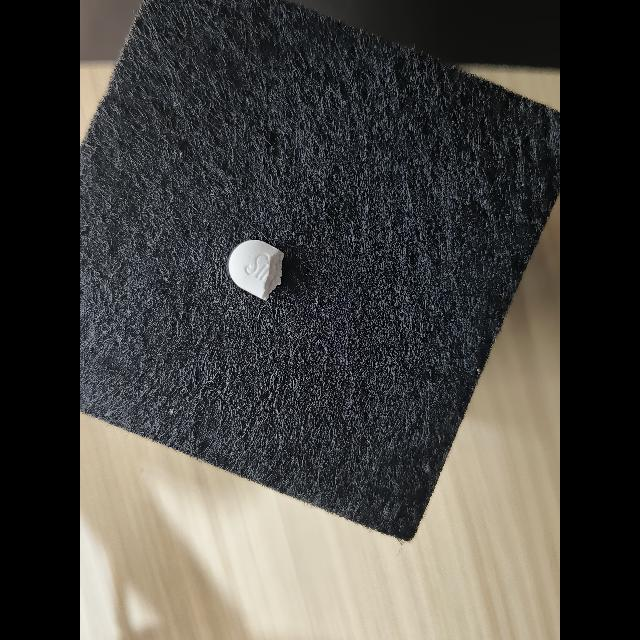Chipped Pill: (228, 240, 285, 301)
